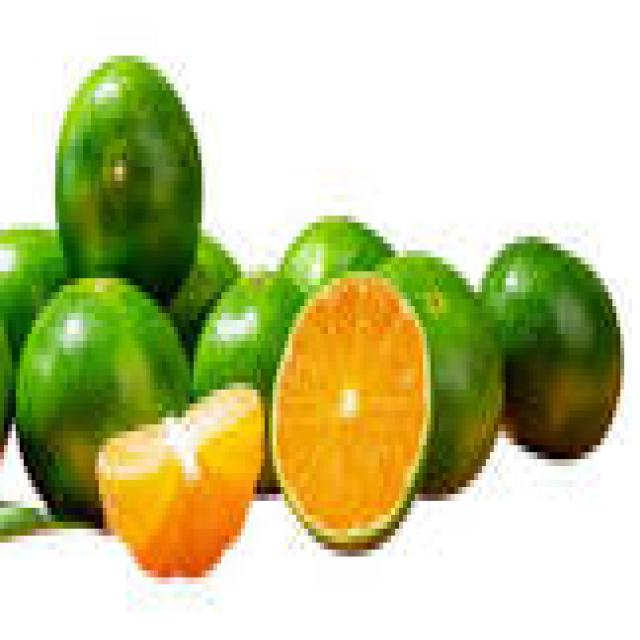orange: (273, 279, 430, 549), (16, 278, 186, 515), (55, 56, 198, 292), (99, 383, 264, 577), (379, 250, 502, 494), (482, 237, 620, 452), (194, 271, 300, 410), (0, 230, 67, 362), (280, 216, 391, 292)
